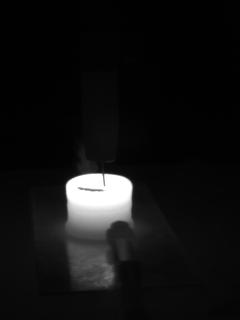tip_wire_left: (84, 157, 106, 188)
tip_wire_right: (103, 156, 118, 188)
